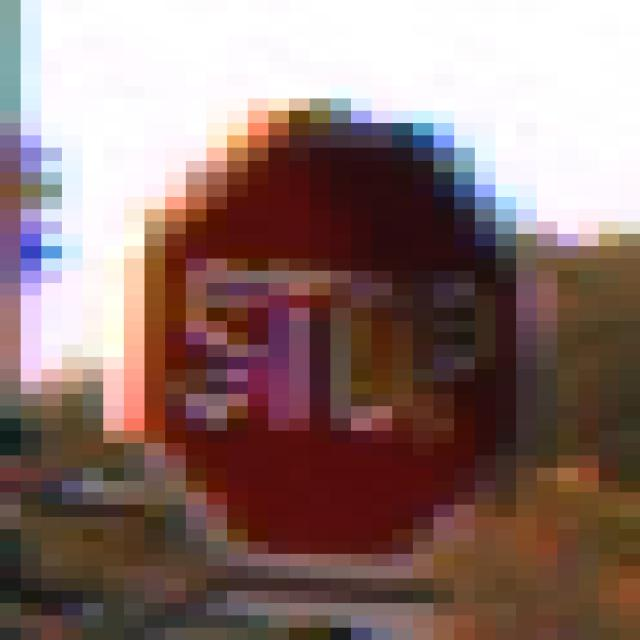STOP: (104, 75, 517, 579)
